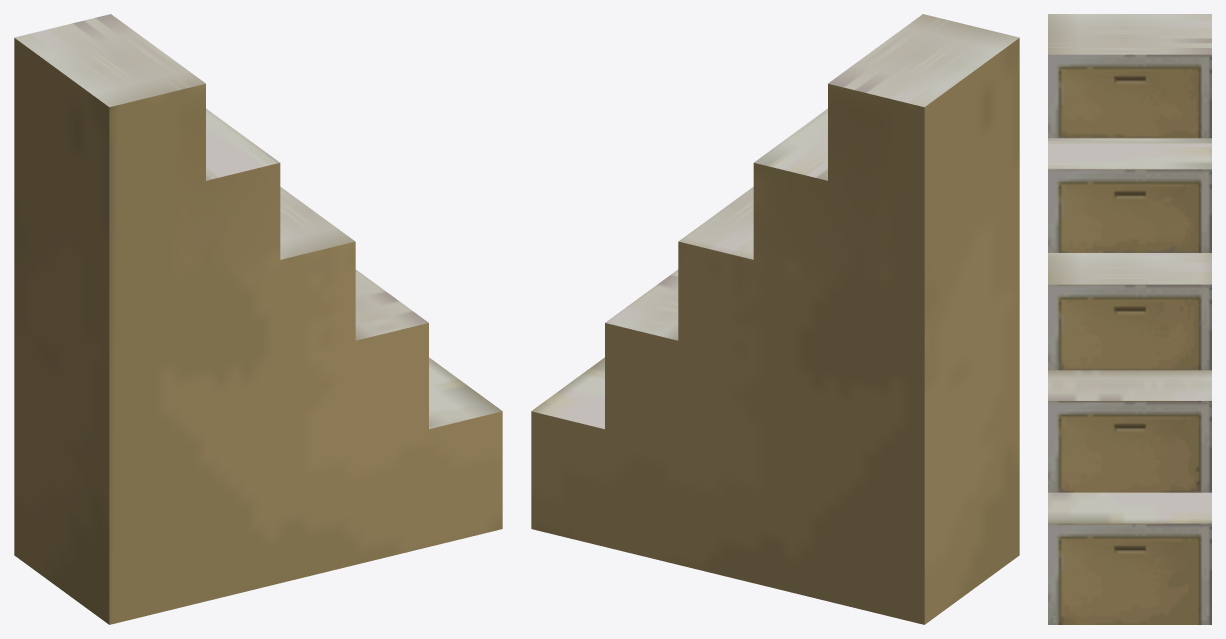
3 renders of one model, left to right at view 1: azimuth 30°, elevation 25°; view 2: azimuth 150°, elevation 25°; view 3: azimuth 270°, elevation 25°, orthographic. The views are drawn at different scales.
Parts seen in each view (by area): view 1: 梯子; view 2: 梯子; view 3: 梯子.
Part boxes in pixels (x1=…): 梯子: x1=14, y1=14, x2=502, y2=624; 梯子: x1=531, y1=14, x2=1019, y2=624; 梯子: x1=1048, y1=14, x2=1211, y2=624.
Bounding box in the file's own units: 79.52 × 100 × 33.33.
